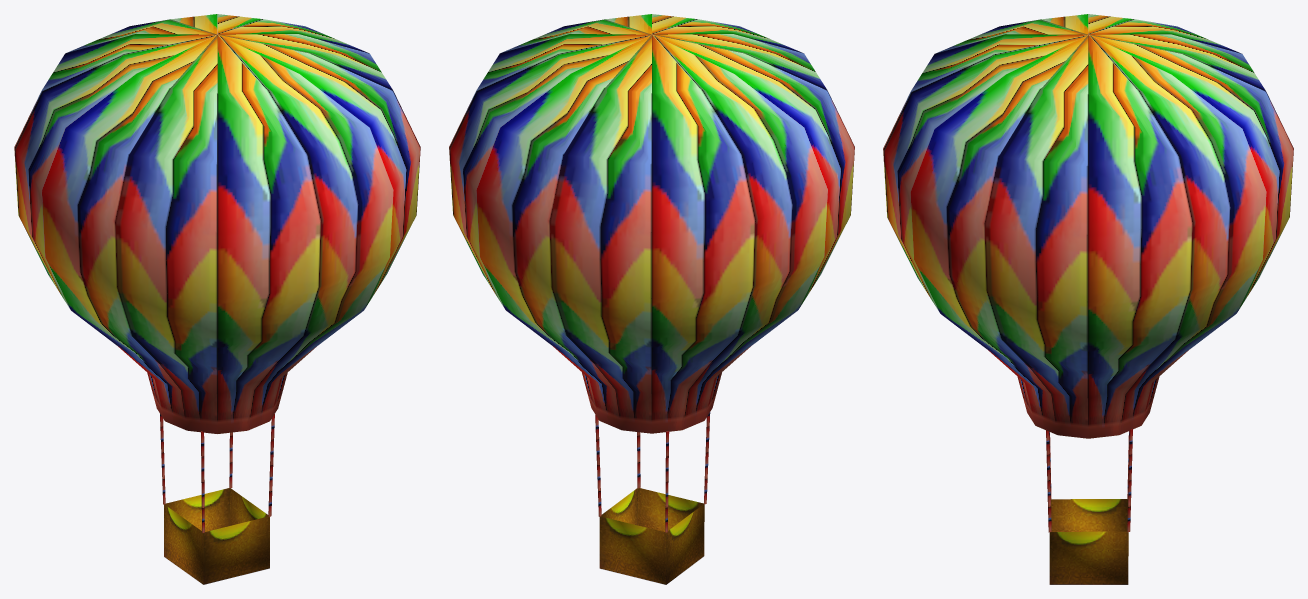
File: furni_0201024.FBX
The picture shows the model from 3 angles, left to right: view 1: azimuth 30°, elevation 25°; view 2: azimuth 150°, elevation 25°; view 3: azimuth 270°, elevation 25°; orthographic projection.
Visible parts, largest first — view 1: furni_0201000; view 2: furni_0201000; view 3: furni_0201000.
Boxes of the visible parts, x1,y1,x2,y2 form: furni_0201000: (14, 14, 420, 584); furni_0201000: (449, 14, 854, 584); furni_0201000: (883, 14, 1293, 584).
Size of the model in its own units: 680 by 975 by 680.
1 material, 1 textured.
